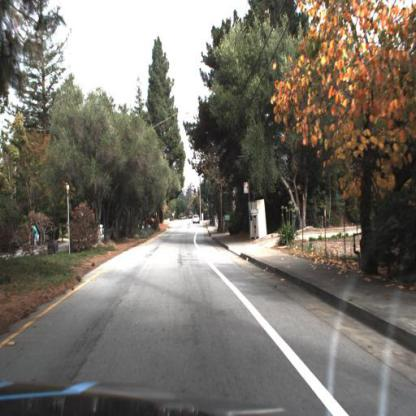car: (191, 211, 201, 227), (192, 214, 200, 226)
